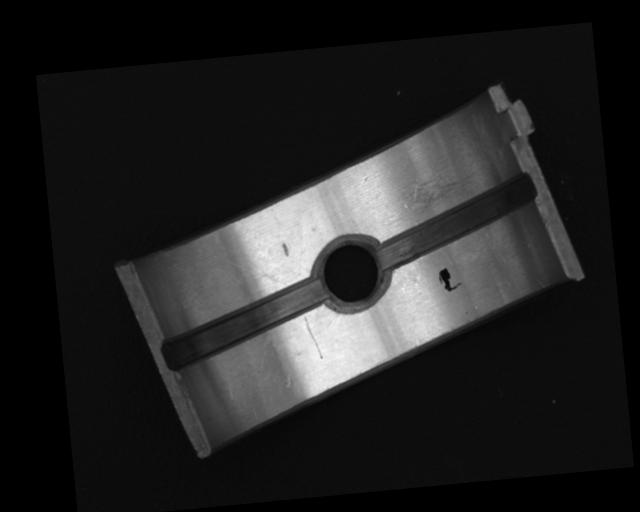blot: (437, 265, 463, 293)
bruise: (280, 241, 290, 258)
gap: (371, 173, 542, 270), (158, 276, 331, 369)
hole: (311, 235, 392, 315)
nick: (302, 315, 323, 361)
scratch: (384, 172, 488, 229)
